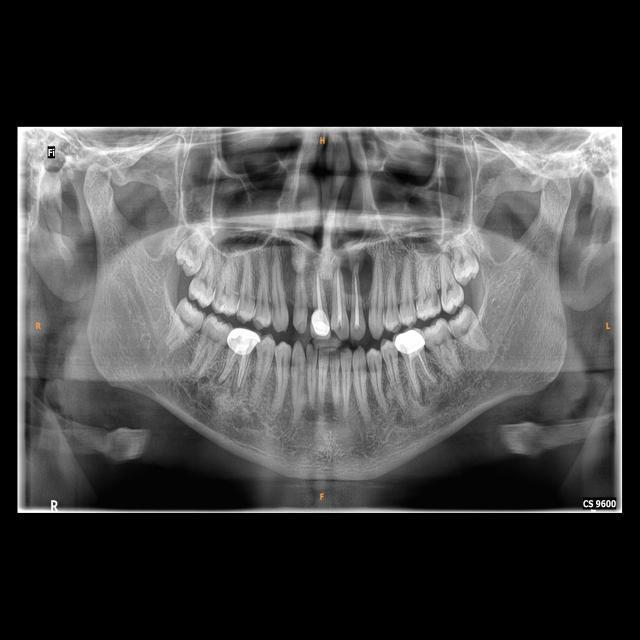kanal-tedavisi: (403, 351, 436, 392), (348, 271, 366, 326), (222, 350, 248, 387), (332, 268, 346, 324), (311, 268, 327, 313)
kaplama: (225, 322, 261, 357), (394, 329, 428, 355), (312, 307, 331, 338)
